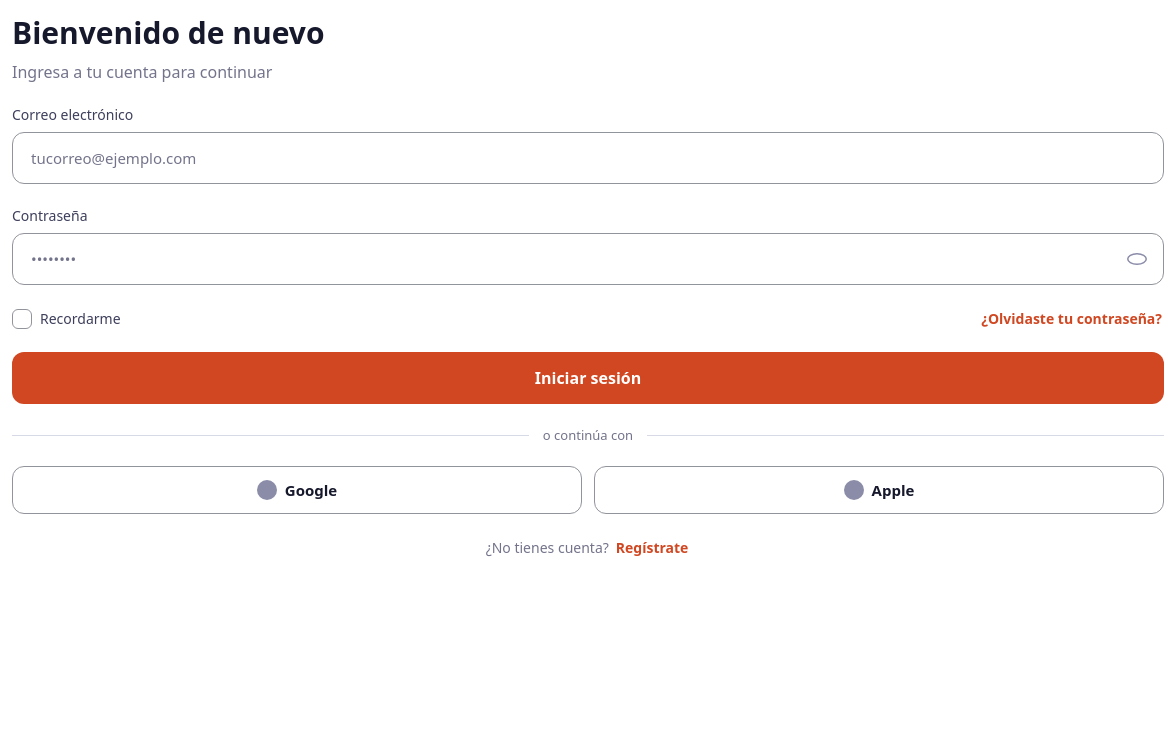
Test: LoginForm · US2 Retroalimentación ante credenciales incorrectas › US2-1: contraseña incorrecta → mensaje genérico, sin bienvenida
Step 1. Type "steven.luna@example.test" into the field labelled "Correo electrónico" → (588, 158), box [29,133,1147,183]
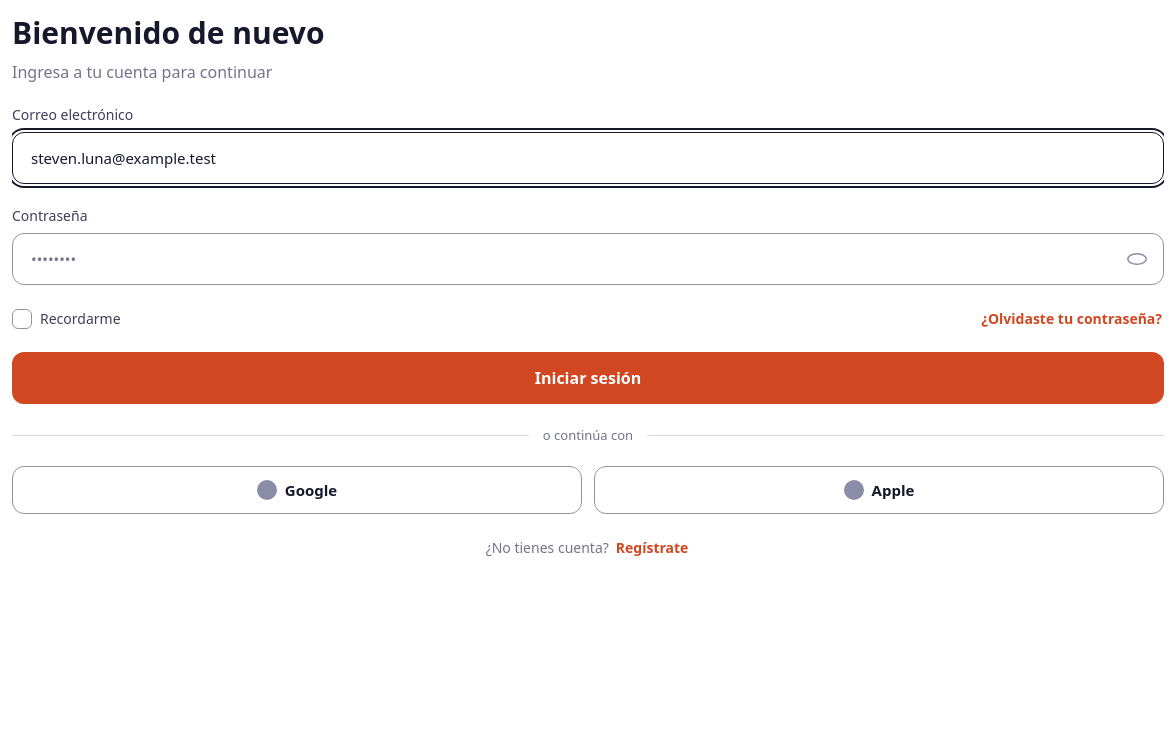
Step 2. Type "otra-clave-99" into the password field labelled "Contraseña" → (571, 259), box [29,234,1113,284]
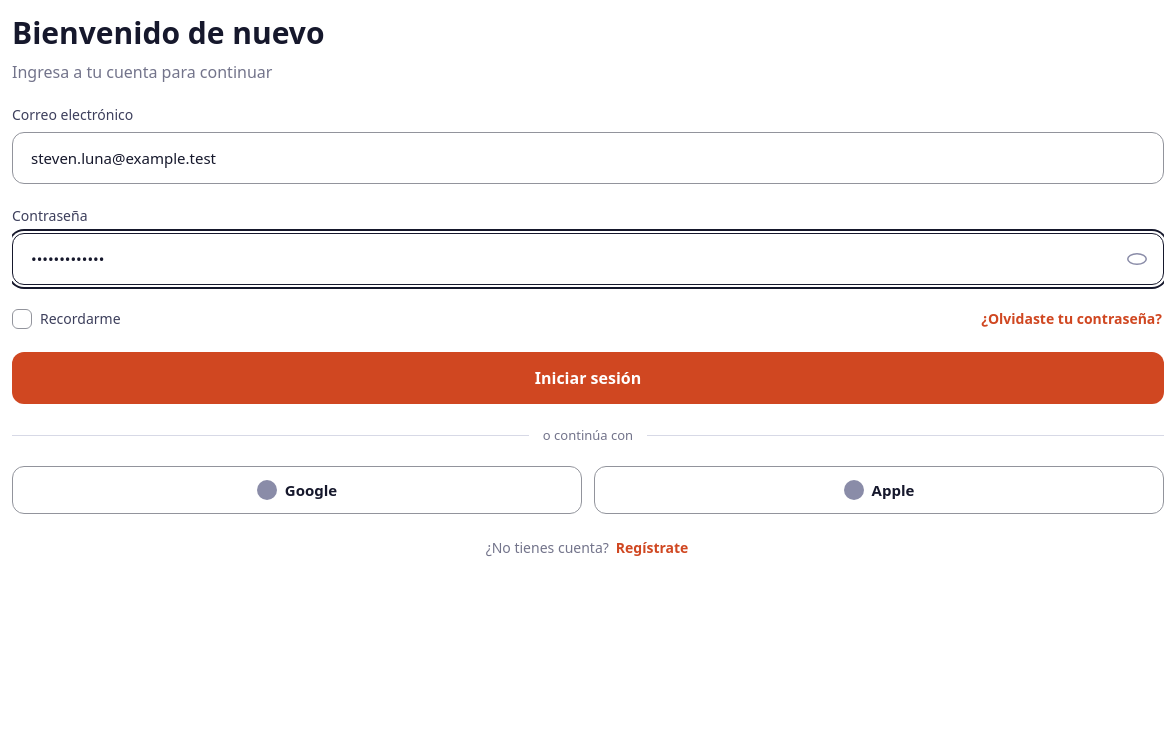
Step 3. Click the button "Iniciar sesión" → click(588, 378), box [12,352,1164,404]
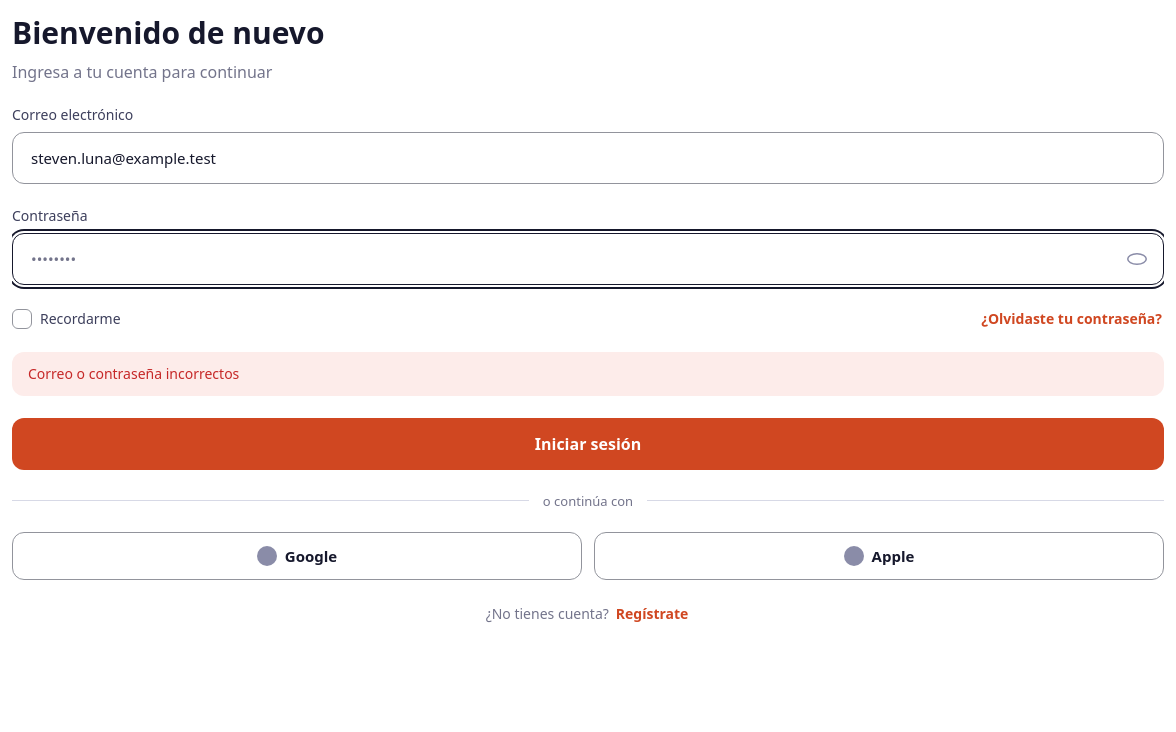
Now the message reads "Correo o contraseña incorrectos", box [28,364,239,383]
